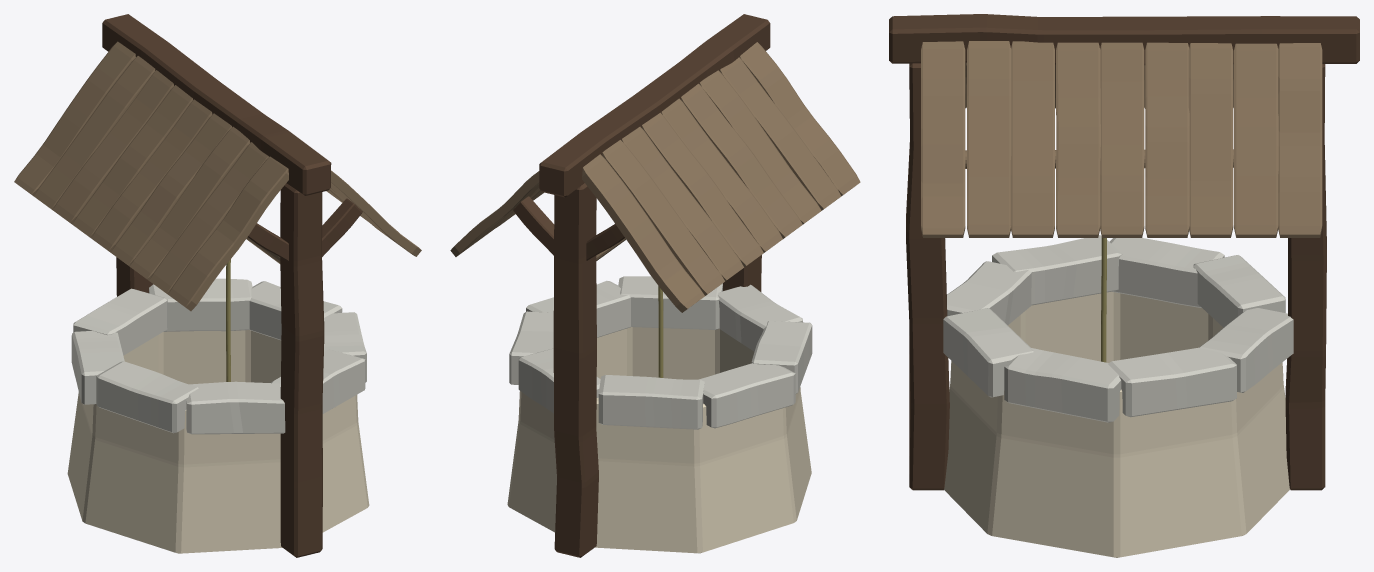
Rendered from Well.fbx.
3 views of the same model, side by side, from view 1: azimuth 30°, elevation 25°; view 2: azimuth 150°, elevation 25°; view 3: azimuth 270°, elevation 25° (orthographic). The views are drawn at different scales.
Parts seen in each view (by area): view 1: Cube.014, Cylinder, Cube.002, Cube.004, Cube.008, Cube.009, Cube.011, Cube.012, Cube.010, Cube.007, Cube.005, Cube.006 (+5 smaller); view 2: Cube.014, Cylinder, Cube.003, Cube.004, Cube.011, Cube.010, Cube.007, Cube.008, Cube.009, Cube.006, Cube.012, Cube.005 (+5 smaller); view 3: Cube.013, Cylinder, Cube.004, Cube.002, Cube.003, Cube.005, Cube.006, Cube.009, Cube.010, Cube.007, Cube.012, Cube.011 (+2 smaller).
Boxes of the visible parts, left/top/right/bottom form: Cube.014: left=14, top=41, right=288, bottom=311; Cylinder: left=67, top=330, right=369, bottom=553; Cube.002: left=280, top=183, right=324, bottom=557; Cube.004: left=102, top=14, right=331, bottom=195; Cube.008: left=186, top=381, right=285, bottom=434; Cube.009: left=96, top=361, right=198, bottom=433; Cube.011: left=73, top=288, right=167, bottom=355; Cube.012: left=149, top=278, right=252, bottom=331; Cube.010: left=71, top=331, right=124, bottom=404; Cube.007: left=271, top=349, right=365, bottom=413; Cube.005: left=249, top=281, right=342, bottom=340; Cube.006: left=324, top=312, right=366, bottom=382; Cube.014: left=582, top=42, right=860, bottom=312; Cylinder: left=507, top=327, right=811, bottom=553; Cube.003: left=553, top=183, right=598, bottom=557; Cube.004: left=539, top=14, right=770, bottom=197; Cube.011: left=598, top=375, right=704, bottom=429; Cube.010: left=699, top=363, right=795, bottom=428; Cube.007: left=618, top=276, right=722, bottom=329; Cube.008: left=718, top=284, right=802, bottom=351; Cube.009: left=751, top=321, right=812, bottom=393; Cube.006: left=526, top=280, right=631, bottom=337; Cube.012: left=518, top=348, right=600, bottom=413; Cube.005: left=509, top=311, right=553, bottom=384; Cube.013: left=921, top=41, right=1322, bottom=237; Cylinder: left=944, top=291, right=1290, bottom=557; Cube.004: left=889, top=14, right=1359, bottom=65; Cube.002: left=906, top=63, right=949, bottom=490; Cube.003: left=1285, top=64, right=1326, bottom=490; Cube.005: left=1108, top=347, right=1236, bottom=417; Cube.006: left=1004, top=347, right=1121, bottom=422; Cube.009: left=992, top=235, right=1122, bottom=305; Cube.010: left=1109, top=238, right=1224, bottom=307; Cube.007: left=943, top=308, right=1033, bottom=397; Cube.012: left=1199, top=308, right=1293, bottom=392; Cube.011: left=1193, top=255, right=1285, bottom=327.
Bounding box in the file's own units: 288 × 408 × 376.
